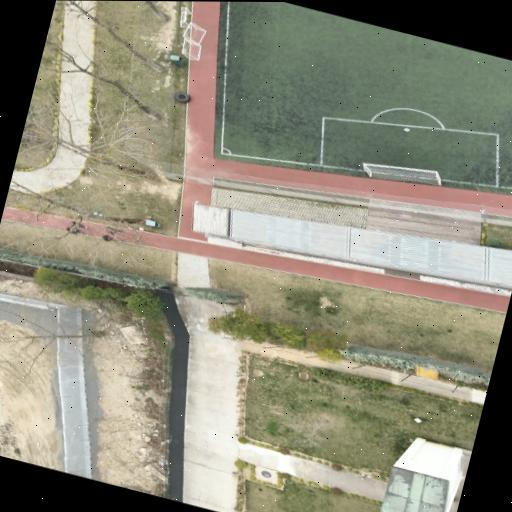person: (104, 225, 123, 233), (66, 227, 86, 234), (70, 221, 87, 228), (102, 234, 114, 241)
